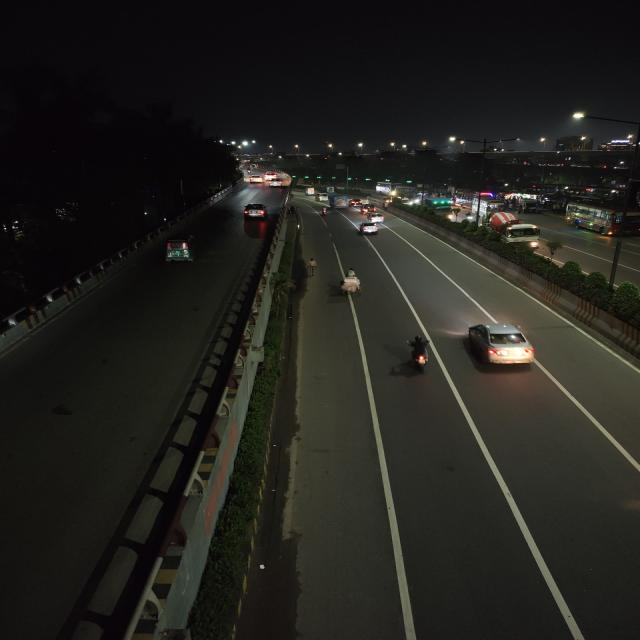bus: (565, 200, 640, 238), (456, 192, 506, 211), (332, 194, 349, 210), (375, 181, 393, 195)
car: (460, 321, 544, 376), (242, 202, 269, 220), (356, 221, 380, 236), (366, 210, 384, 222), (358, 202, 378, 212), (249, 173, 266, 183), (349, 199, 365, 209), (266, 178, 281, 186)
cng: (162, 233, 202, 265), (314, 192, 328, 204)
motorcycle: (400, 334, 435, 373), (302, 255, 321, 278), (319, 206, 331, 218)
rickshaw: (336, 274, 366, 298)
truck: (480, 209, 543, 246), (426, 196, 453, 221)
